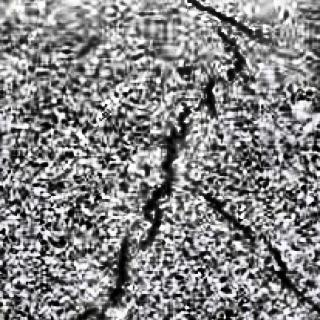crack: (195, 183, 320, 320), (70, 235, 138, 316), (180, 0, 262, 42), (158, 106, 193, 188), (141, 181, 164, 246), (218, 44, 253, 84), (200, 75, 223, 115)
